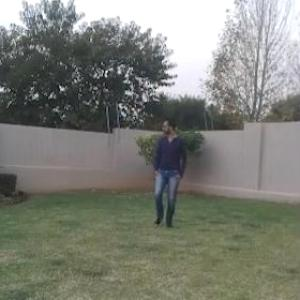follow: (150, 113, 184, 228)
